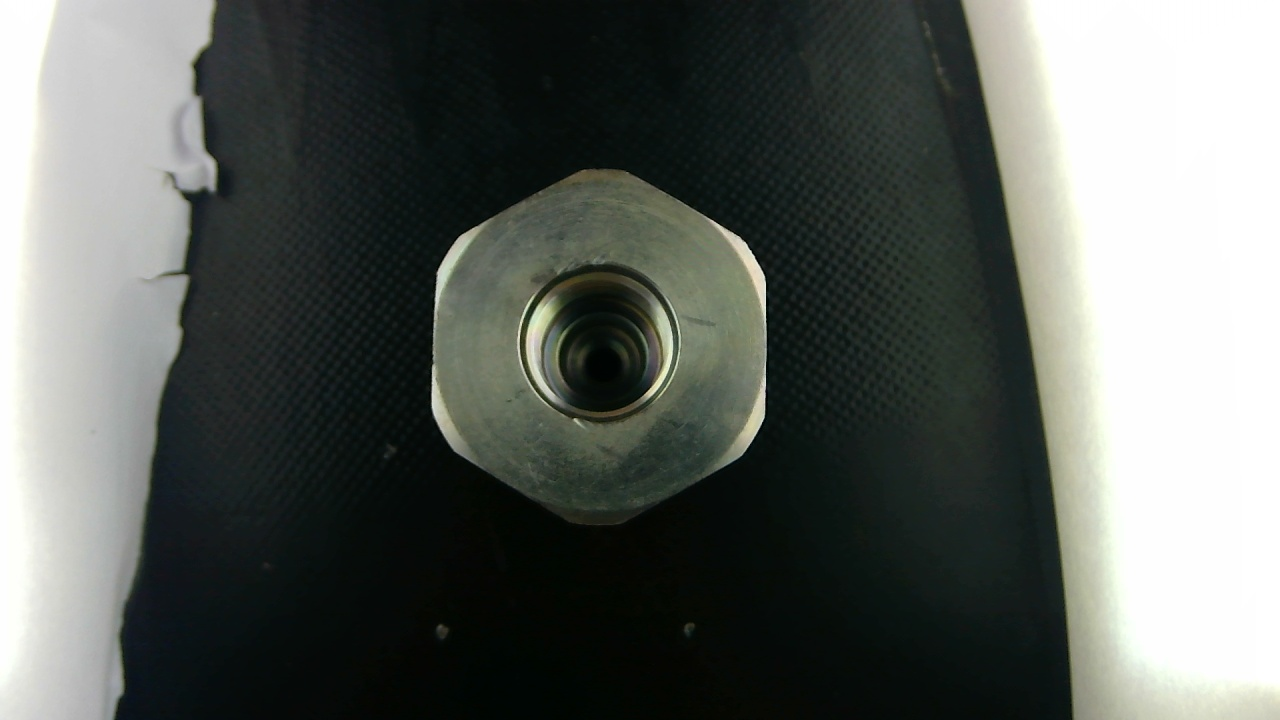Capnut_Surface_Dent: (556, 254, 607, 279)
